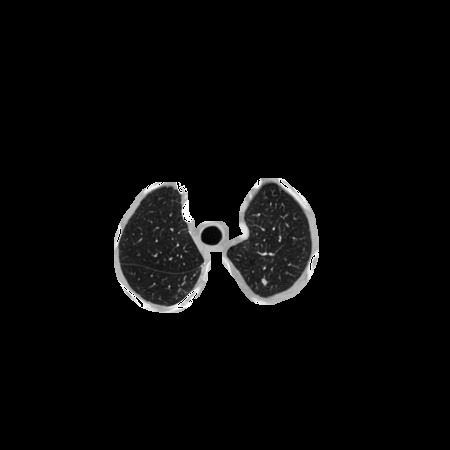PN: (261, 278, 267, 284)
